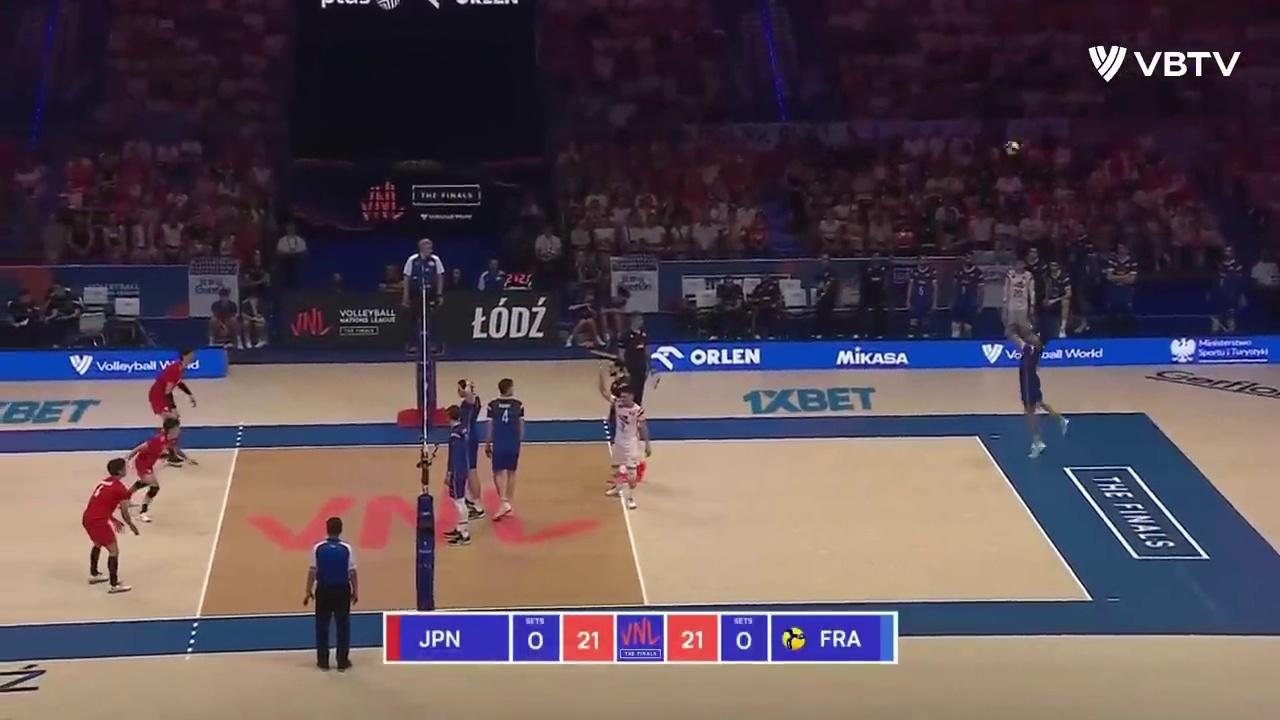ball: (1007, 141, 1019, 154)
